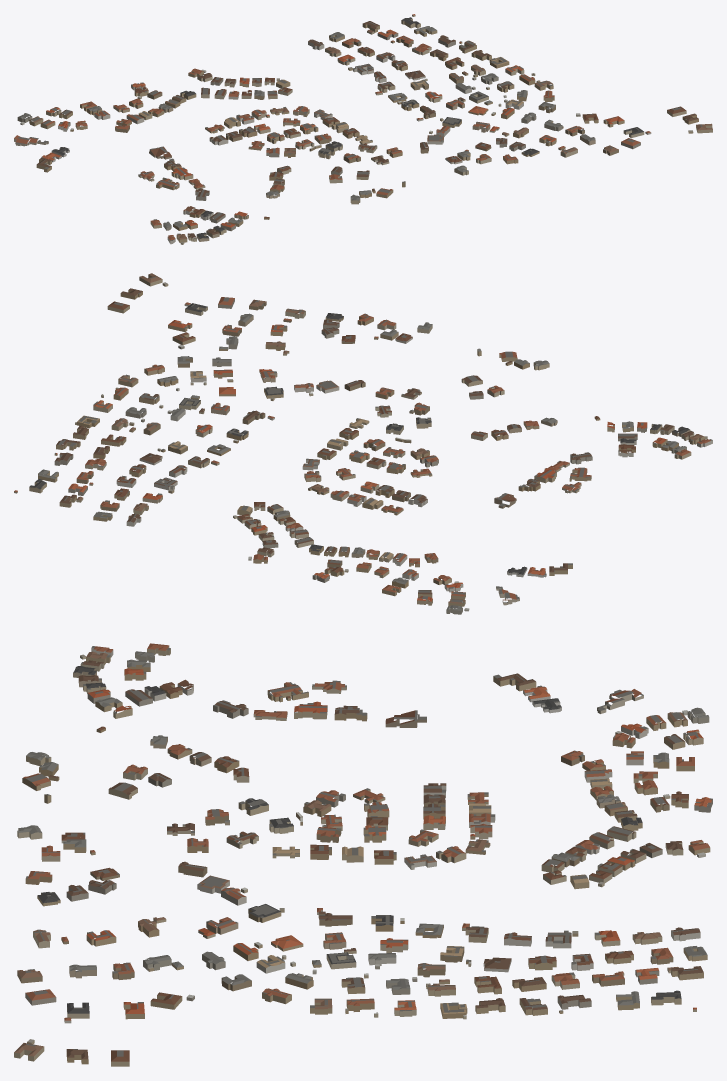
3 views of the same model, one above another, from view 1: azimuth 30°, elevation 25°; view 2: azimuth 150°, elevation 25°; view 3: azimuth 270°, elevation 25° (orthographic). The views are drawn at different scales.
Visible parts, largest first — view 1: buildings_r2_c1_lod1; view 2: buildings_r2_c1_lod1; view 3: buildings_r2_c1_lod1.
Part boxes in pixels (x1=…): buildings_r2_c1_lod1: x1=14, y1=14, x2=712, y2=244; buildings_r2_c1_lod1: x1=14, y1=273, x2=712, y2=614; buildings_r2_c1_lod1: x1=14, y1=643, x2=712, y2=1066.
Size of the model in its own units: 1148 by 95.56 by 812.
